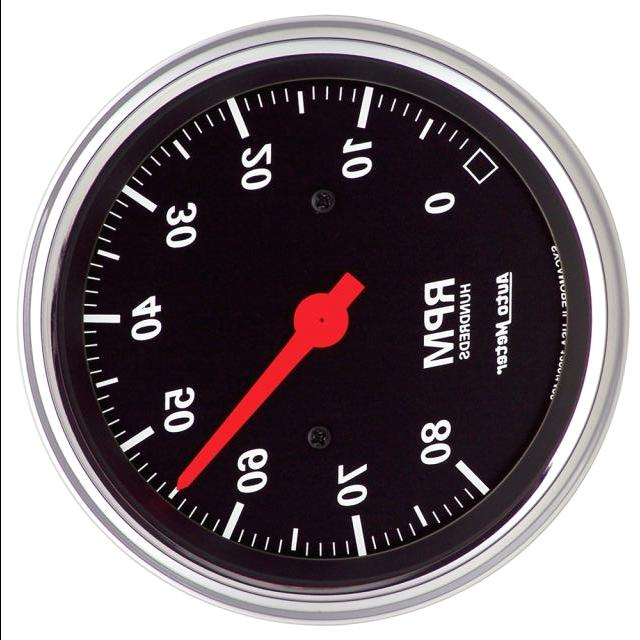Needle_Tip: (159, 434, 212, 537)
Needle_base: (277, 271, 368, 361)
max_value: (396, 410, 467, 473)
min_value: (402, 170, 480, 239)
